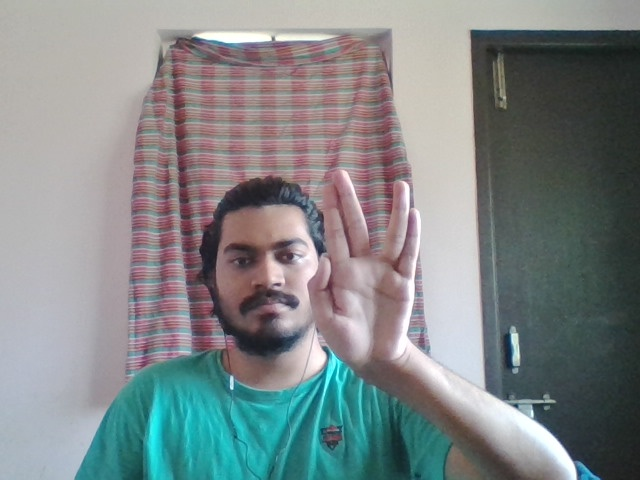LiveLong: (307, 169, 422, 368)
